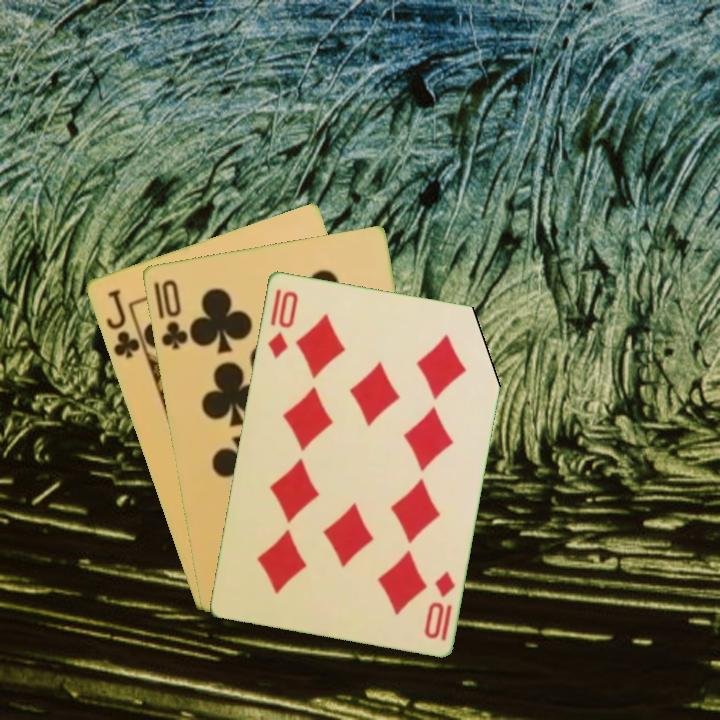10c: (157, 276, 191, 352)
10d: (420, 567, 458, 643), (264, 287, 301, 361)
Jc: (102, 285, 143, 361)
